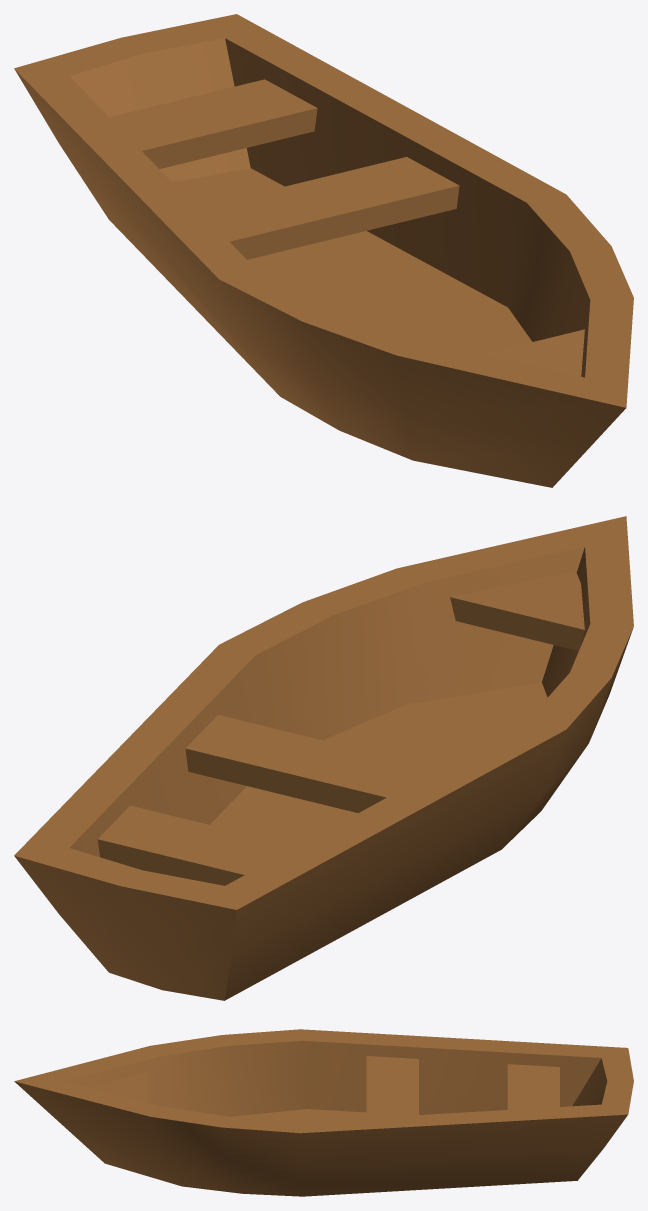
The model's file is rowboat.glb.
3 renders of one model, top to bottom at view 1: azimuth 30°, elevation 25°; view 2: azimuth 150°, elevation 25°; view 3: azimuth 270°, elevation 25°, orthographic. The views are drawn at different scales.
Visible parts, largest first — view 1: boat.001; view 2: boat.001; view 3: boat.001.
Part boxes in pixels (box(x1,y1,x2,y2)): boat.001: box(14, 14, 633, 487); boat.001: box(14, 516, 633, 1000); boat.001: box(14, 1029, 633, 1196).
Size of the model in its own units: 0.7728 by 0.2853 by 1.95.
